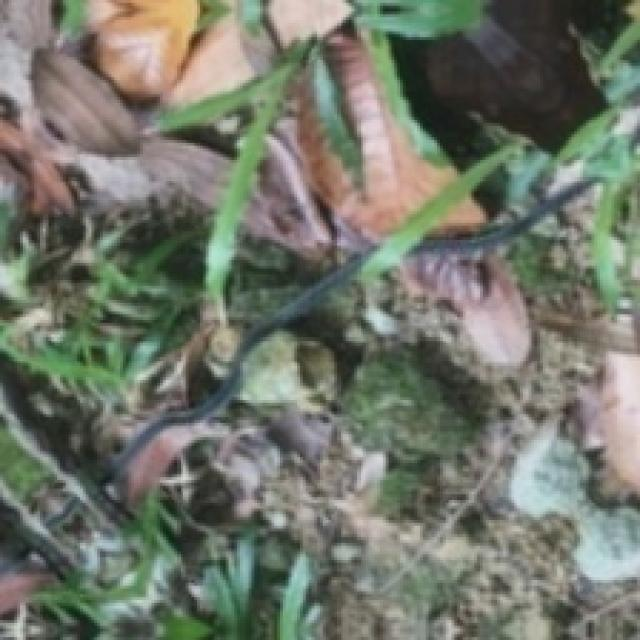king cobra: (117, 0, 637, 471), (474, 34, 523, 69)
